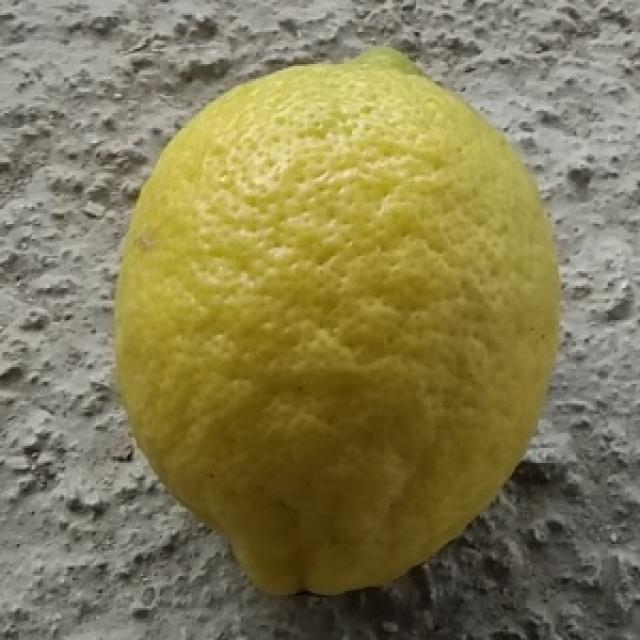Ripe: (109, 43, 567, 601)
